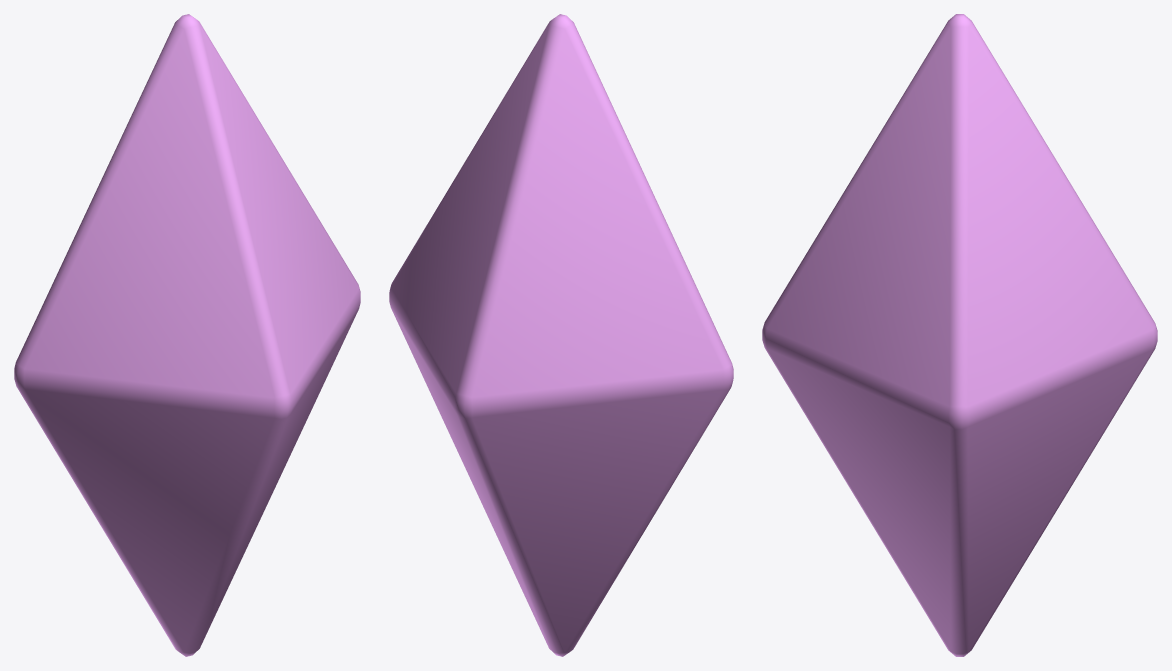
The model's file is rhombus.glb.
The picture shows the model from 3 angles, left to right: view 1: azimuth 30°, elevation 25°; view 2: azimuth 150°, elevation 25°; view 3: azimuth 270°, elevation 25°; orthographic projection.
Visible parts, largest first — view 1: rombo; view 2: rombo; view 3: rombo.
Part boxes in pixels (x1,y1,x2,y2): rombo: (14, 14, 360, 656); rombo: (389, 14, 733, 656); rombo: (762, 14, 1157, 656).
Size of the model in its own units: 1.22 by 2.19 by 1.22.
Materials: 1 (1 with a texture image).
